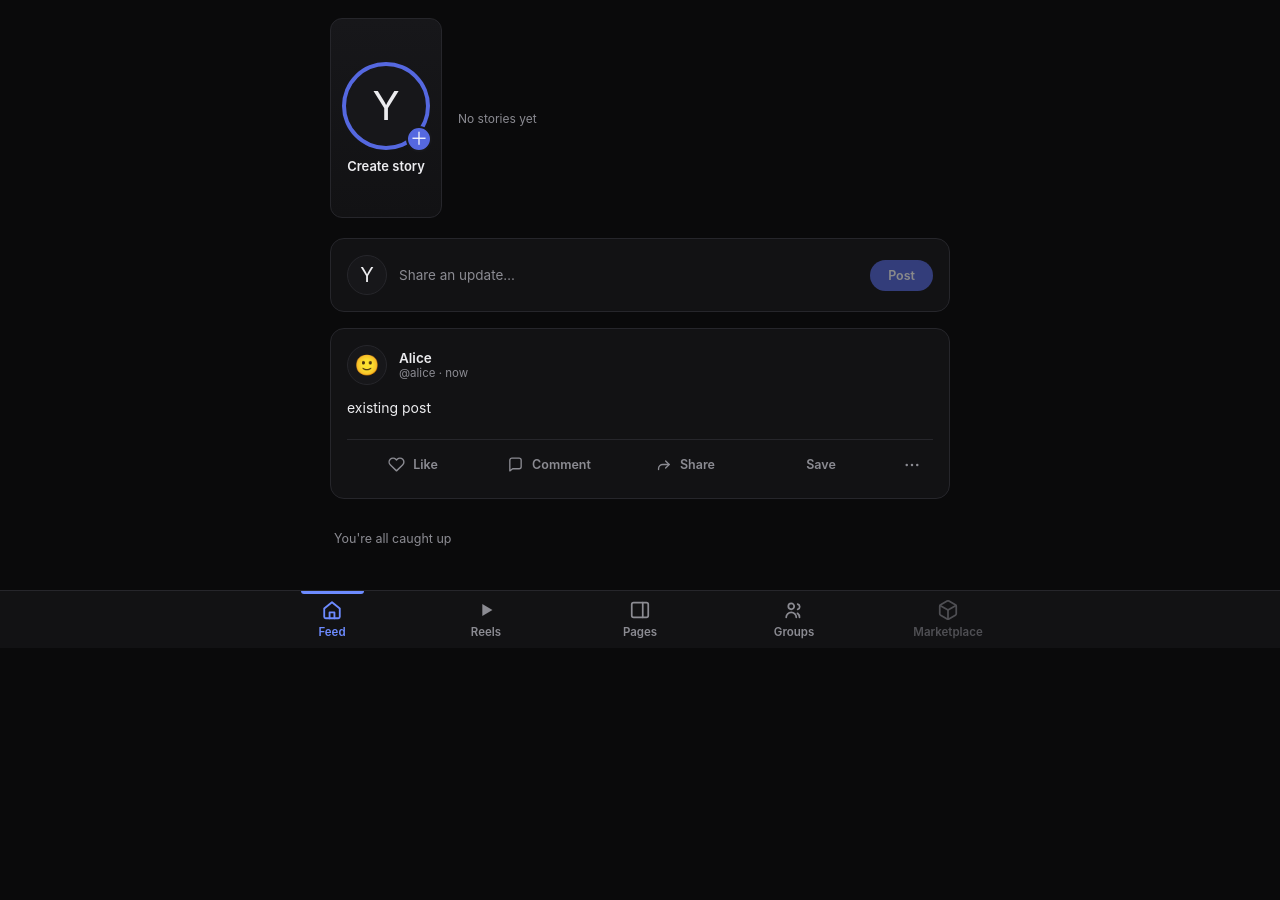
Test: Composer publish lifecycle › keeps the draft and shows a composer error when the API fails
Expected: the text "existing post" is shown, [347,399,431,416]
Type "keep me" into the text box named "Post text" at (629, 275), box [399,257,858,293]
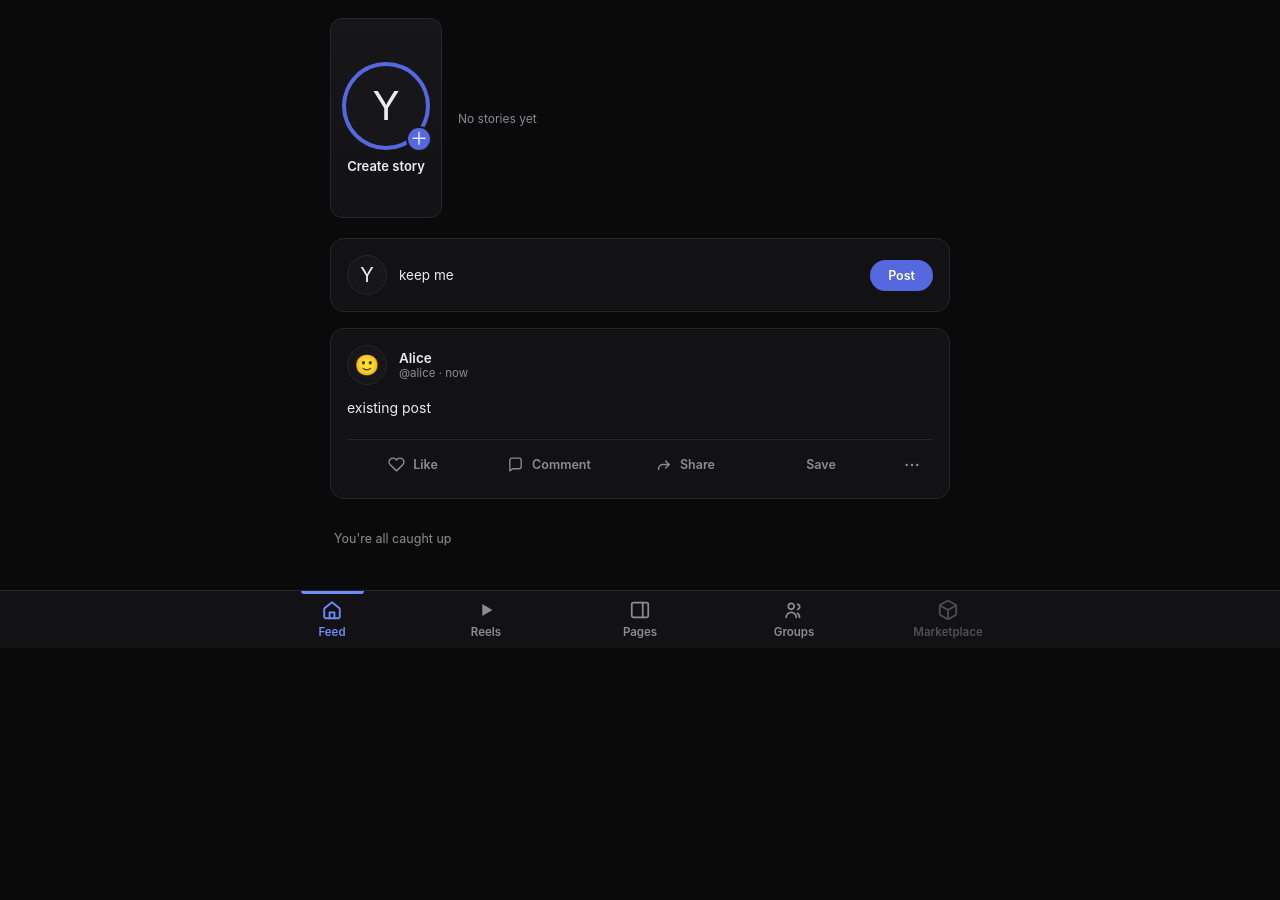
Click the button "Post" at (902, 275), box [870,260,933,290]
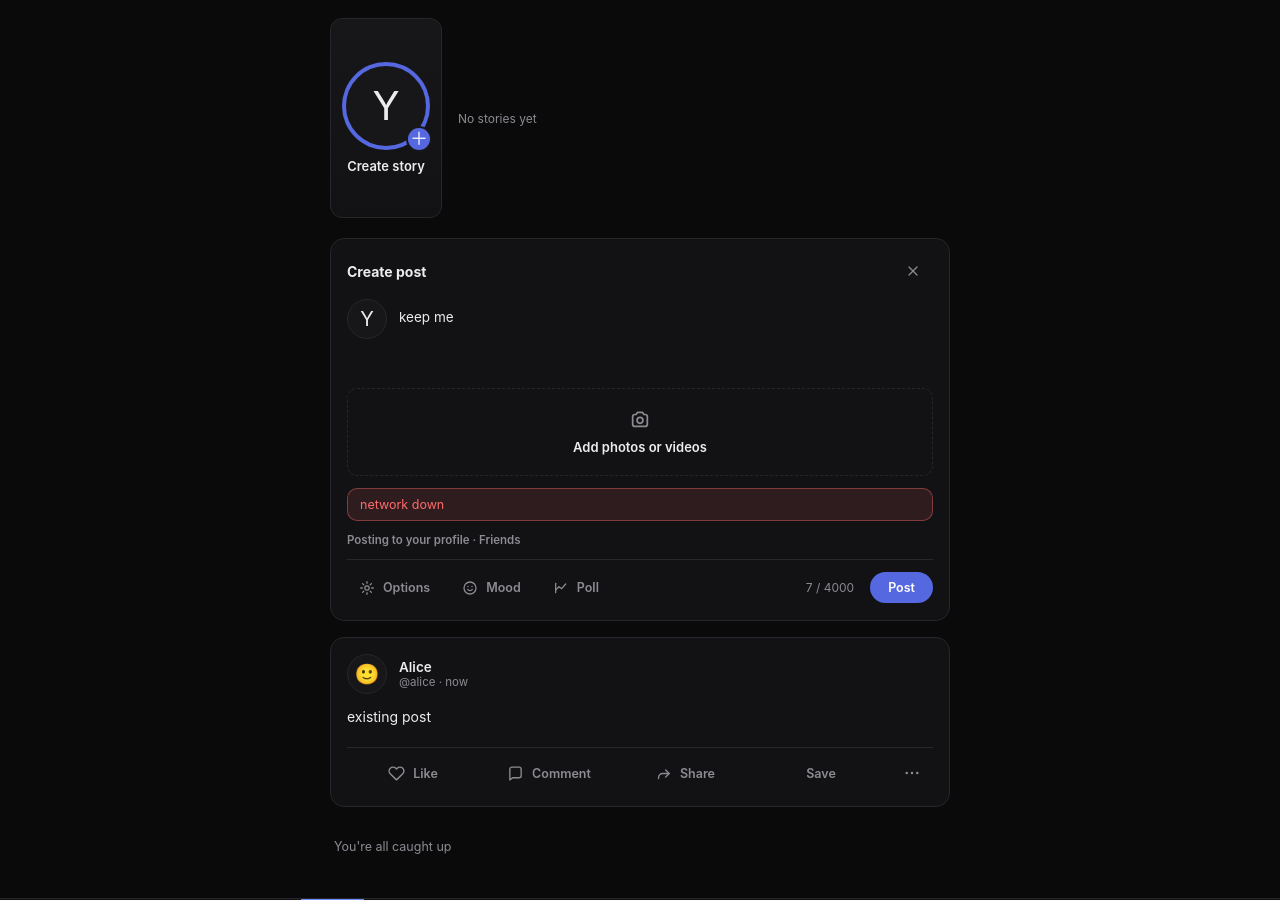
Result: the text "network down" is shown at [347,488,933,521]
